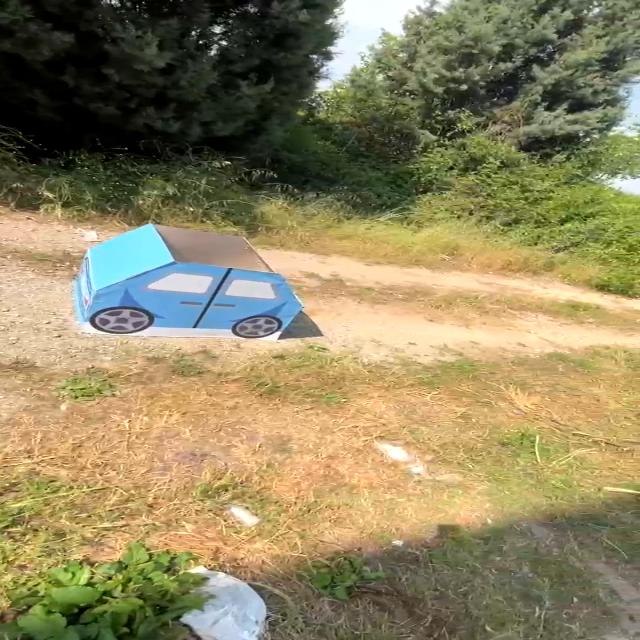blue_car: (54, 210, 315, 356)
